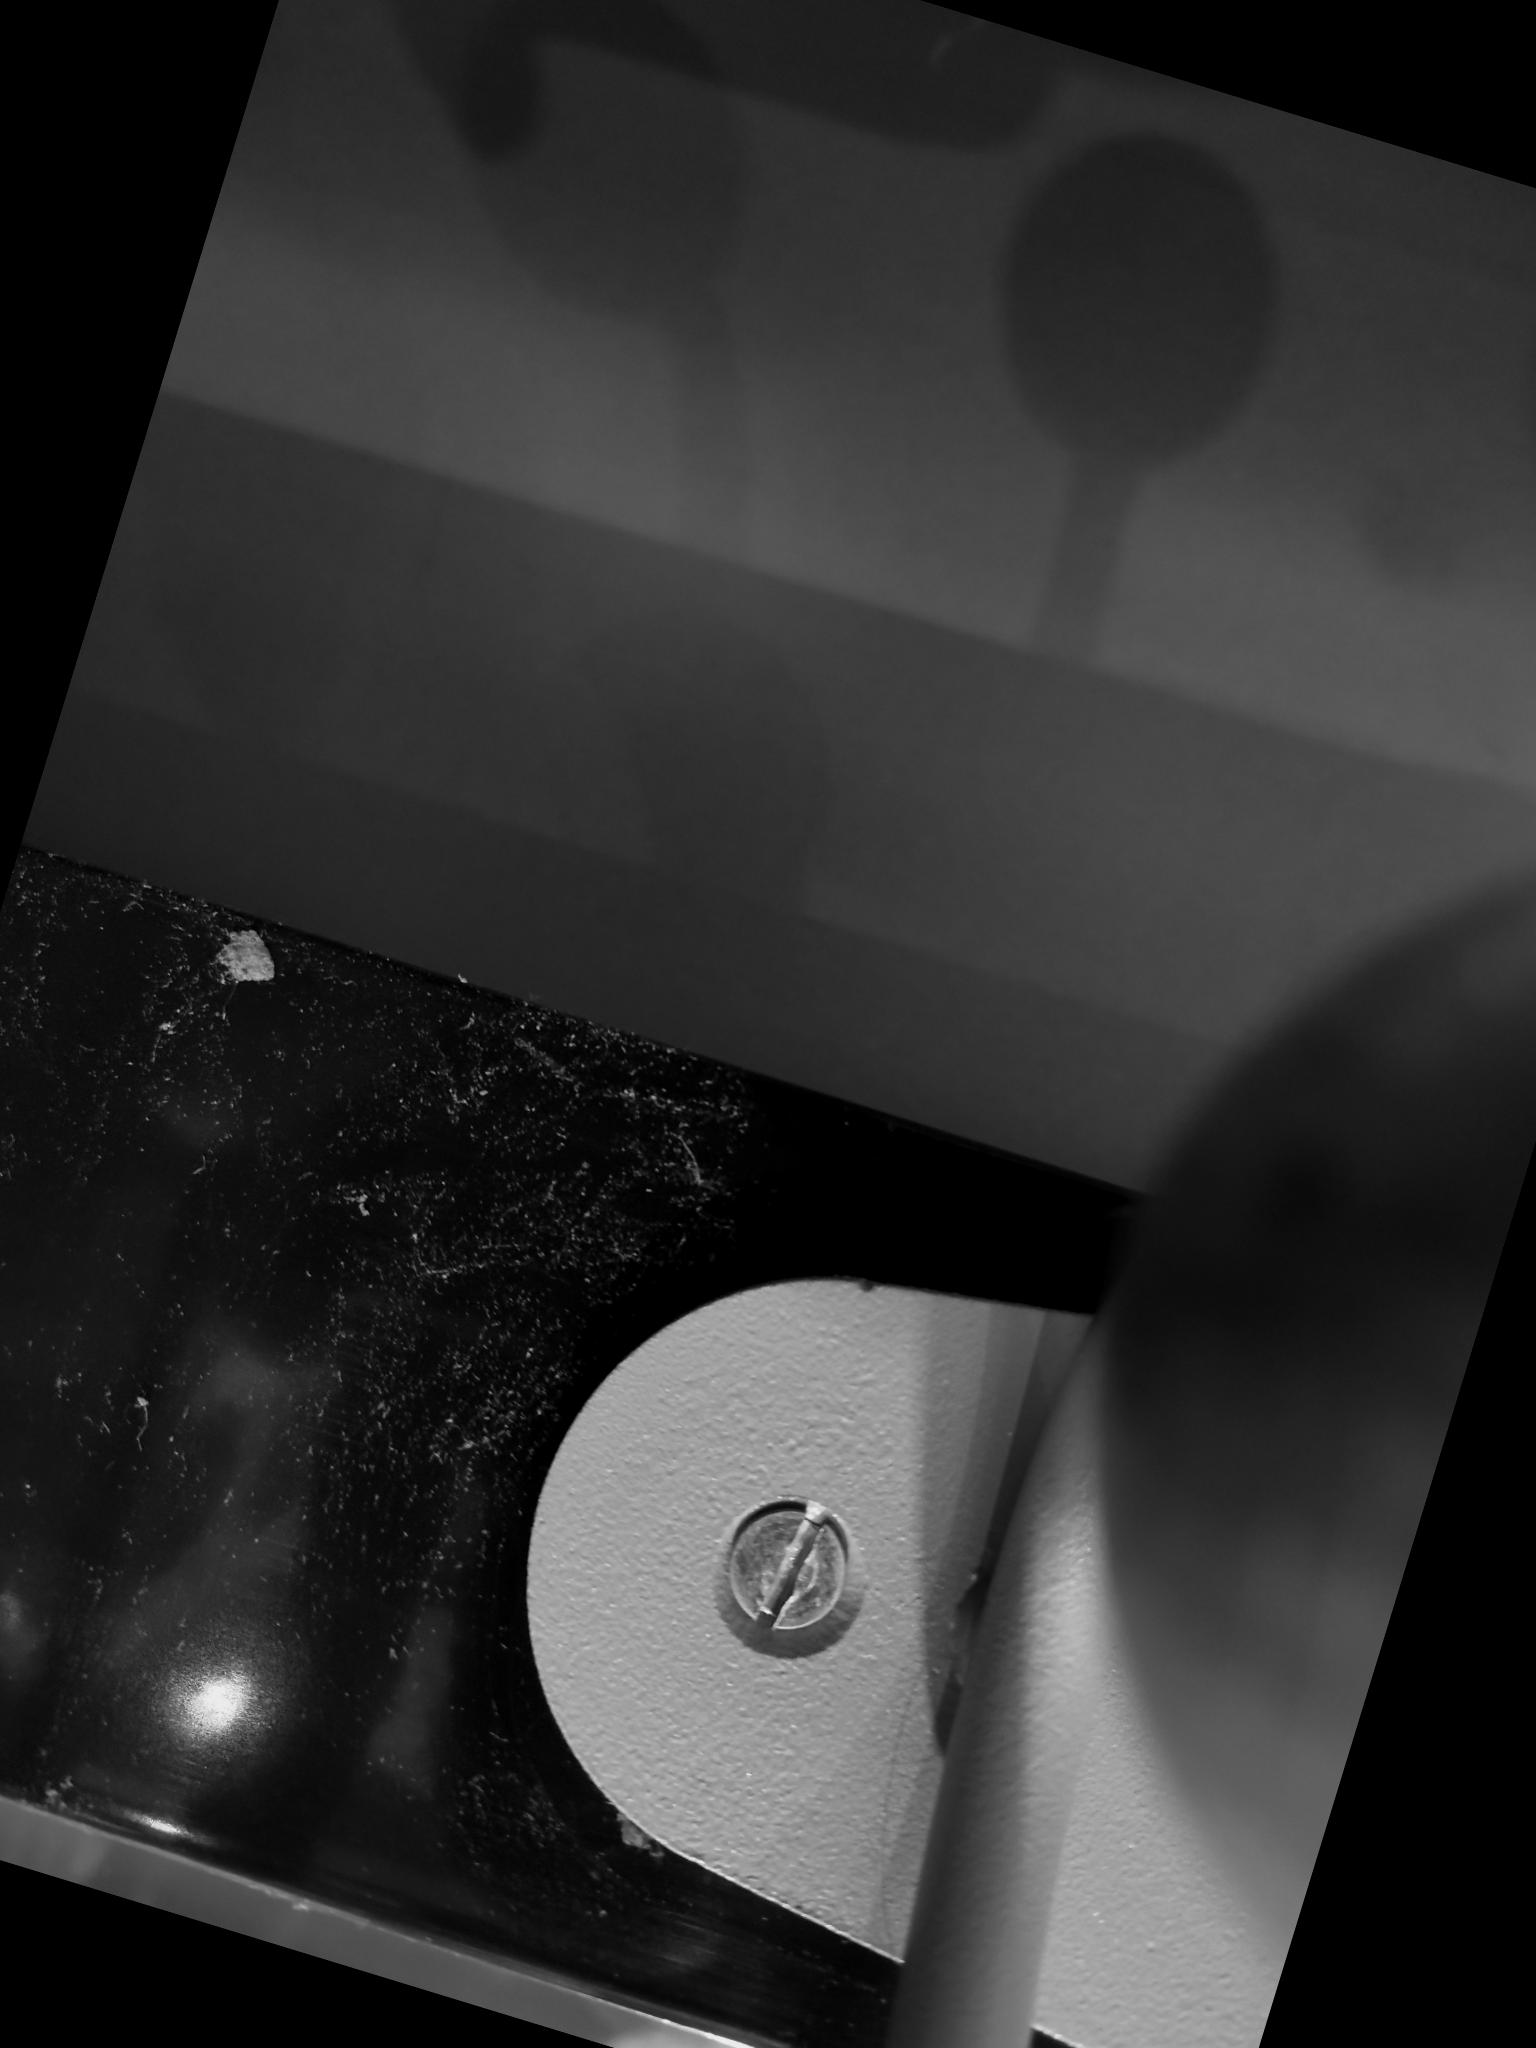slotted: (697, 1480, 881, 1661)
